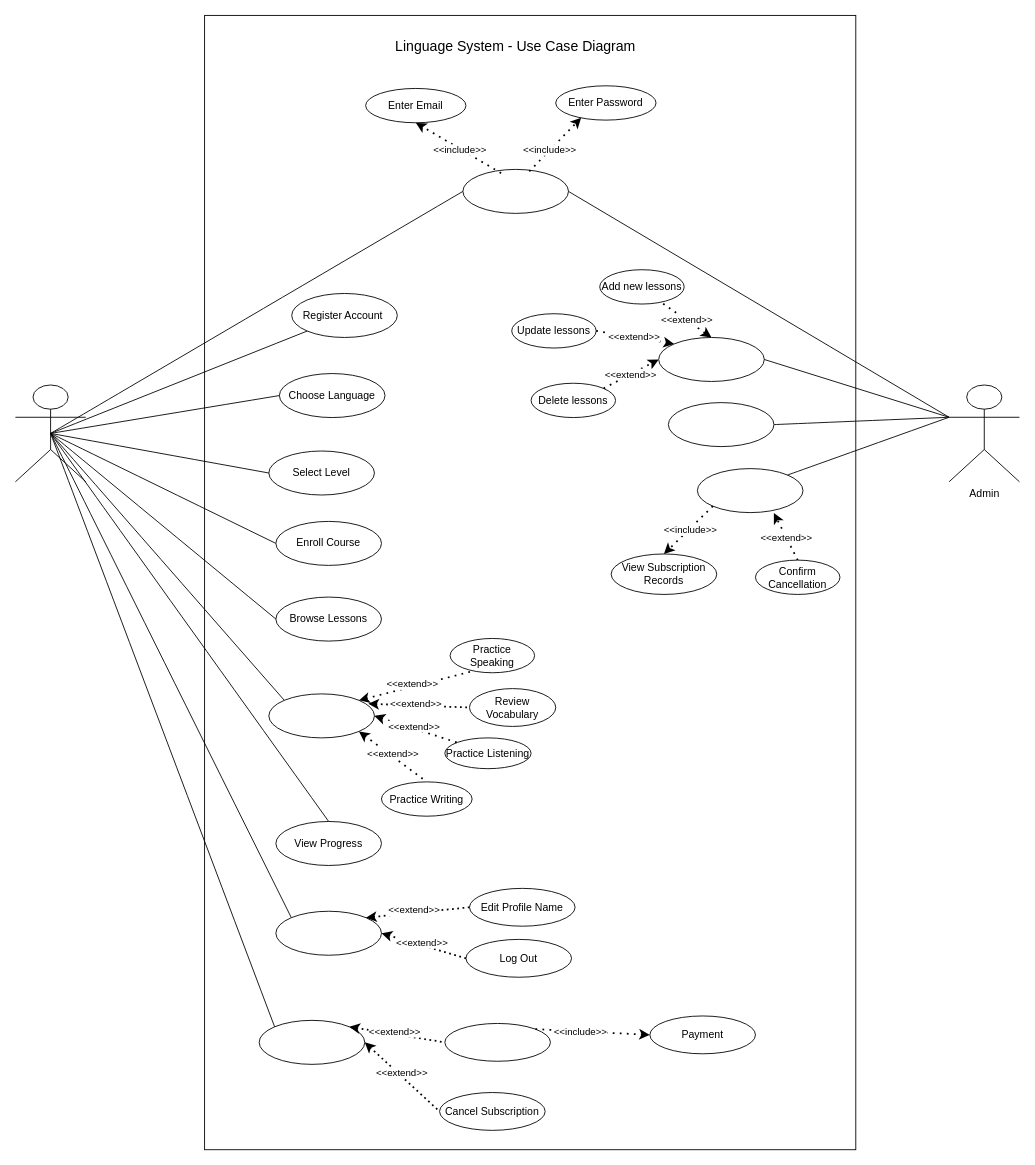
Image size: 1035x1165. Some labels were removed from this diagram. The shapes that lost their labels are listed below. From the top down, each one's centre as x and y in pixels, then its label:
At (515,191): "Log In".
At (711,359): "Manage Course Content".
At (50,433): "User".
At (720,424): "Manage User Accounts".
At (750,490): "Manage Subscriptions".
At (321,715): "Take Lessons".
At (328,932): "Manage Profile & Settings".
At (311,1041): "Manage Subscribtion".
At (497,1042): "Purchase Subscription".
